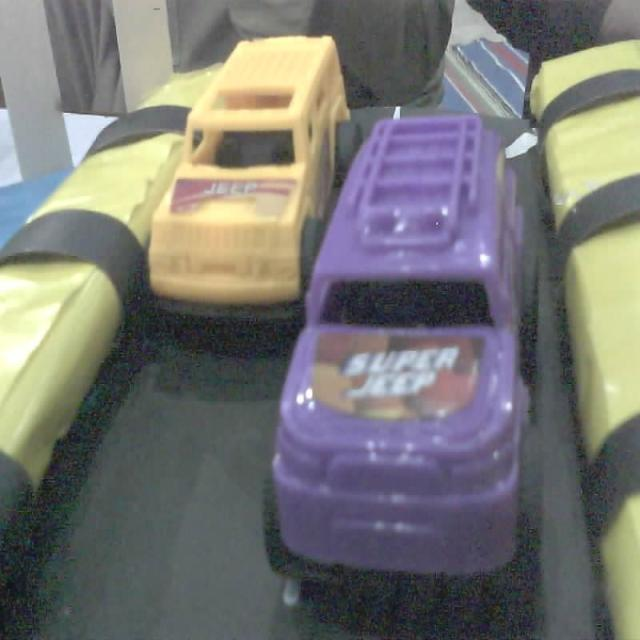TwoCar: (277, 102, 542, 610), (144, 24, 375, 325)
